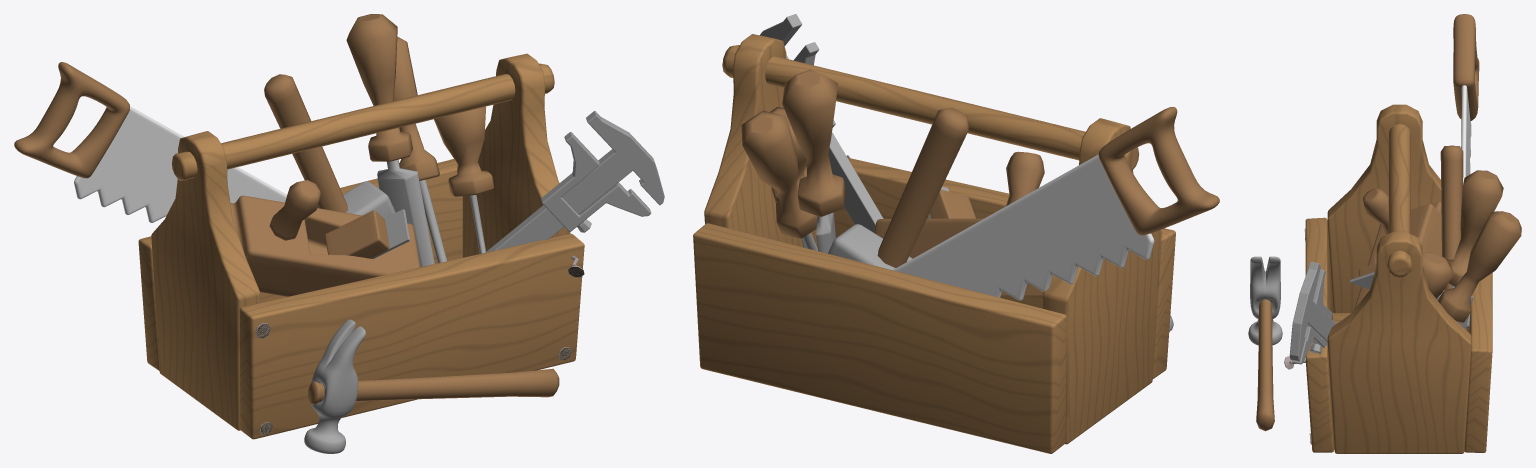
File: Tool_new.glb
3 views of the same model, side by side, from view 1: azimuth 30°, elevation 25°; view 2: azimuth 150°, elevation 25°; view 3: azimuth 270°, elevation 25° (orthographic). The views are drawn at different scales.
Visible parts, largest first — view 1: Cube.027, rub.002, saw.002, Cube.046, Cube.050, hammer.003, Circle.026, Cube.049, hammer.002, Circle.022, Cube.051, Circle.027 (+6 smaller); view 2: Cube.027, saw.002, Cube.046, Circle.026, hammer.002, Circle.020, Cube.050, rub.002, Cube.043, Circle.019, Cube.048, Circle.027 (+1 smaller); view 3: Cube.027, Circle.020, Circle.026, hammer.002, Cube.046, Cube.050, hammer.003, Cube.049, rub.002, Circle.022, Cube.051, saw.002 (+1 smaller).
Boxes of the visible parts, x1=… form: Cube.027: x1=138, y1=53, x2=584, y2=439; rub.002: x1=230, y1=195, x2=420, y2=296; saw.002: x1=74, y1=106, x2=286, y2=222; Cube.046: x1=14, y1=62, x2=129, y2=178; Cube.050: x1=485, y1=111, x2=664, y2=252; hammer.003: x1=308, y1=368, x2=559, y2=404; Circle.026: x1=346, y1=14, x2=412, y2=161; Cube.049: x1=304, y1=319, x2=365, y2=453; hammer.002: x1=264, y1=74, x2=347, y2=212; Circle.022: x1=434, y1=106, x2=494, y2=196; Cube.051: x1=541, y1=132, x2=651, y2=232; Circle.027: x1=377, y1=159, x2=434, y2=267; Cube.027: x1=693, y1=34, x2=1175, y2=453; saw.002: x1=893, y1=154, x2=1154, y2=300; Cube.046: x1=1098, y1=107, x2=1219, y2=235; Circle.026: x1=782, y1=69, x2=845, y2=216; hammer.002: x1=877, y1=107, x2=969, y2=267; Circle.020: x1=741, y1=110, x2=817, y2=238; Cube.050: x1=760, y1=14, x2=883, y2=232; rub.002: x1=875, y1=218, x2=1043, y2=295; Cube.043: x1=828, y1=224, x2=912, y2=270; Circle.019: x1=1006, y1=151, x2=1044, y2=205; Cube.048: x1=929, y1=189, x2=975, y2=218; Circle.027: x1=816, y1=212, x2=835, y2=253; Cube.027: x1=1305, y1=104, x2=1492, y2=453; Circle.020: x1=1438, y1=211, x2=1521, y2=322; Circle.026: x1=1446, y1=170, x2=1503, y2=286; hammer.002: x1=1440, y1=145, x2=1463, y2=289; Cube.046: x1=1453, y1=14, x2=1479, y2=120; Cube.050: x1=1289, y1=262, x2=1336, y2=361; hammer.003: x1=1256, y1=299, x2=1274, y2=431; Cube.049: x1=1248, y1=256, x2=1282, y2=345; rub.002: x1=1354, y1=201, x2=1441, y2=308; Circle.022: x1=1422, y1=252, x2=1454, y2=298; Cube.051: x1=1292, y1=269, x2=1332, y2=364; saw.002: x1=1461, y1=85, x2=1471, y2=329.
Bounding box in the file's own units: 2.33 × 1.37 × 1.24.
6 materials, 2 textured.
